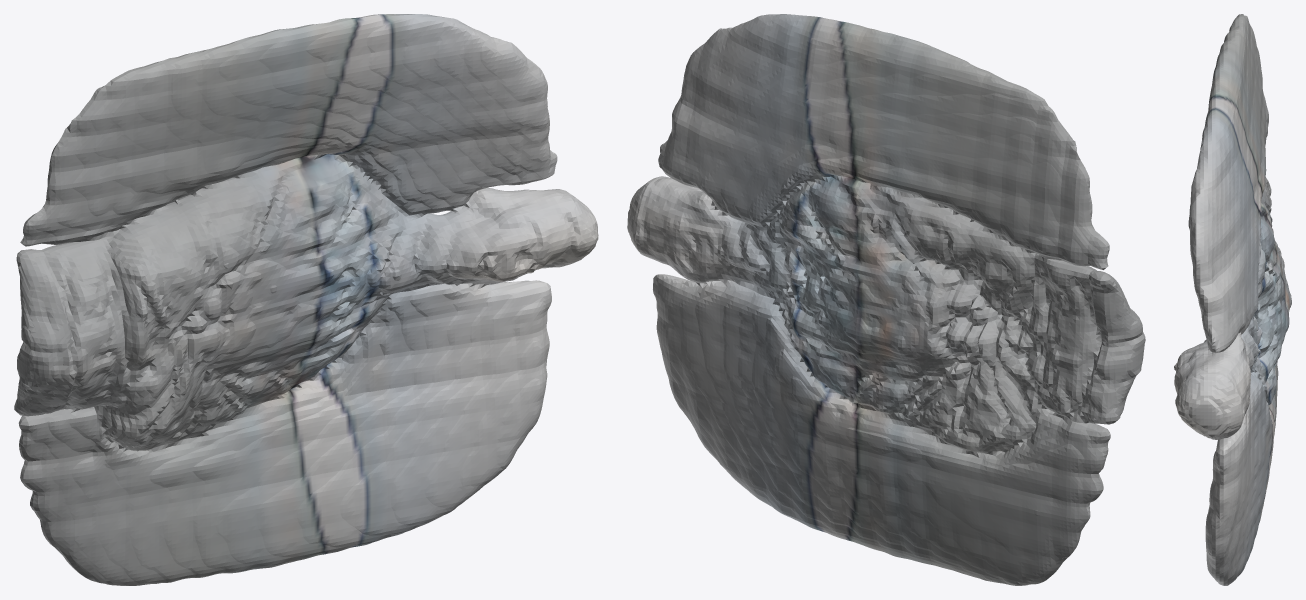
File: gen_3619fd67.glb
The picture shows the model from 3 angles, left to right: view 1: azimuth 30°, elevation 25°; view 2: azimuth 150°, elevation 25°; view 3: azimuth 270°, elevation 25°; orthographic projection. The views are drawn at different scales.
Visible parts, largest first — view 1: world; view 2: world; view 3: world.
Boxes of the visible parts, <box> form: world: <box>14,14,598,585</box>; world: <box>627,14,1145,585</box>; world: <box>1174,14,1291,585</box>.
Size of the model in its own units: 0.9687 by 0.9113 by 0.2068.
